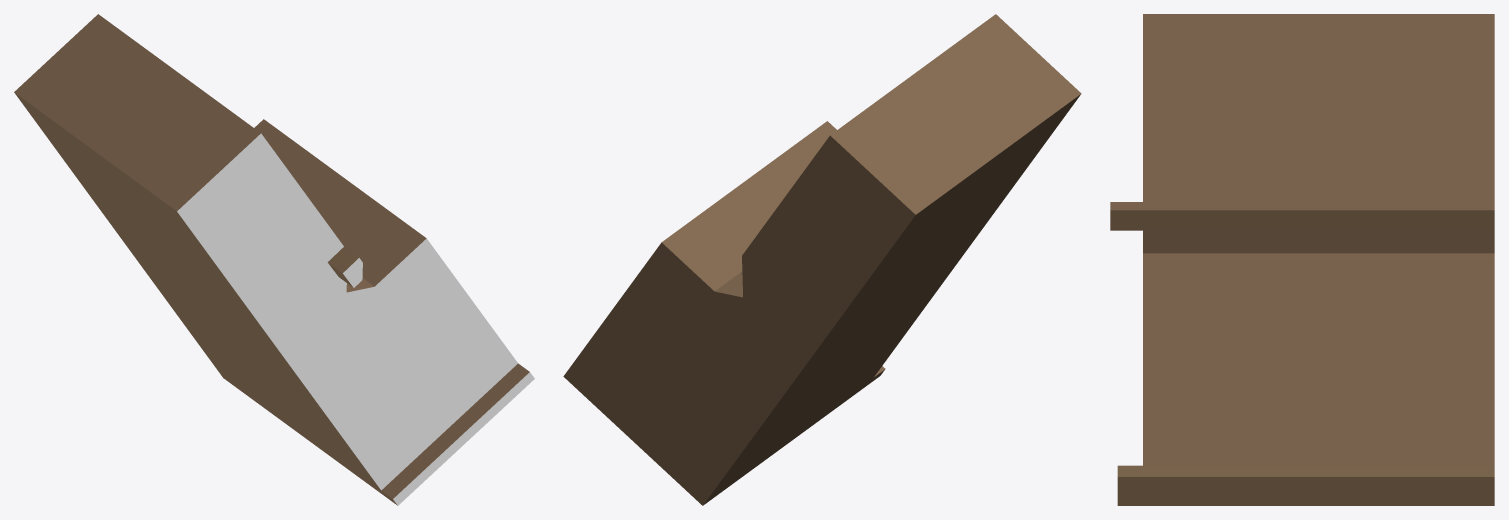
3 renders of one model, left to right at view 1: azimuth 30°, elevation 25°; view 2: azimuth 150°, elevation 25°; view 3: azimuth 270°, elevation 25°, orthographic. The views are drawn at different scales.
Visible parts, largest first — view 1: City_PC-08627; view 2: City_PC-08627; view 3: City_PC-08627.
Boxes of the visible parts, bbox=[...] form: City_PC-08627: bbox=[14, 14, 534, 505]; City_PC-08627: bbox=[563, 14, 1081, 505]; City_PC-08627: bbox=[1110, 14, 1494, 505].
Size of the model in its own units: 1655 by 1803 by 1475.
